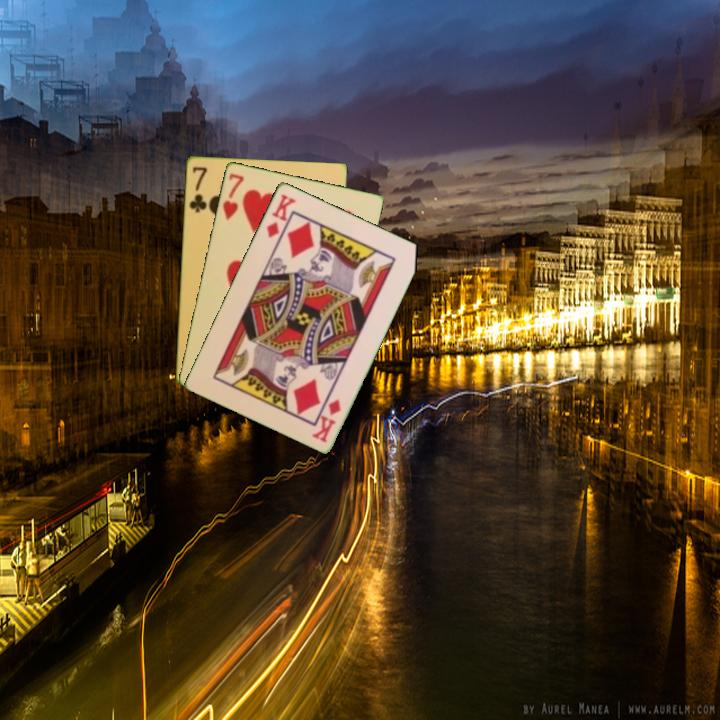7c: (186, 163, 210, 215)
7h: (219, 170, 247, 222)
Kd: (263, 190, 299, 241), (309, 395, 344, 445)
